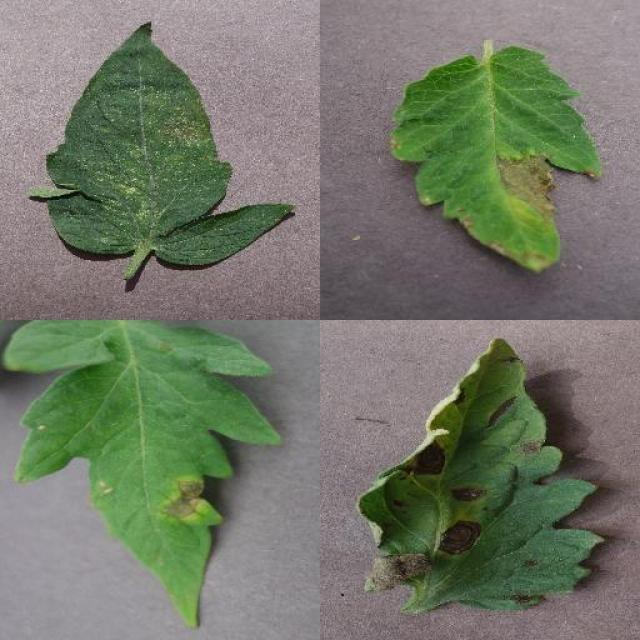Early Blight: (358, 334, 606, 621)
Late Blight: (4, 320, 284, 631), (390, 44, 601, 275)
